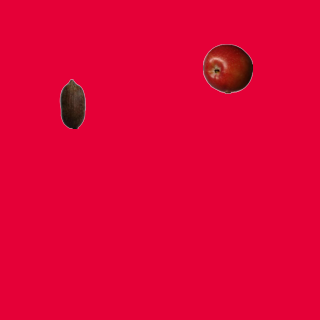Apple Braeburn: (202, 43, 252, 93)
Nut Pecan: (47, 78, 97, 128)
